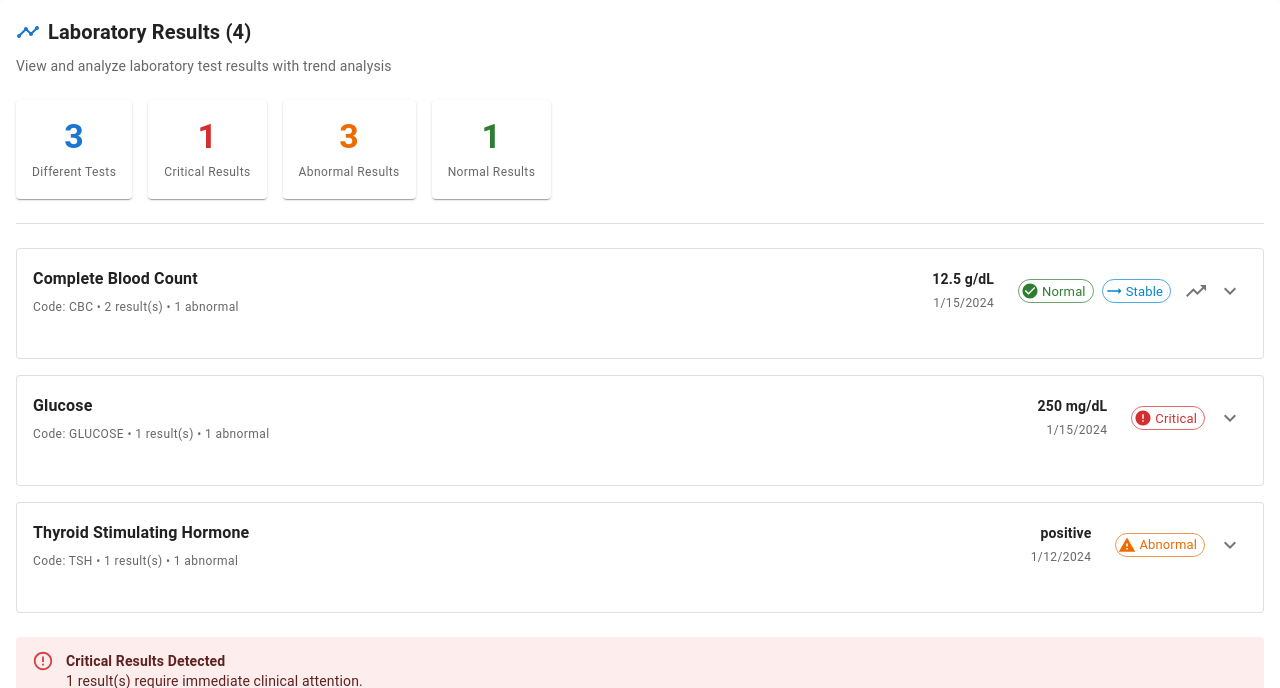
Scenario: LabResultViewer › Trend Analysis › shows insufficient data message when not enough trend data
Click the button named "show details" next to "Stable": (1230, 291) [1213,274,1247,308]
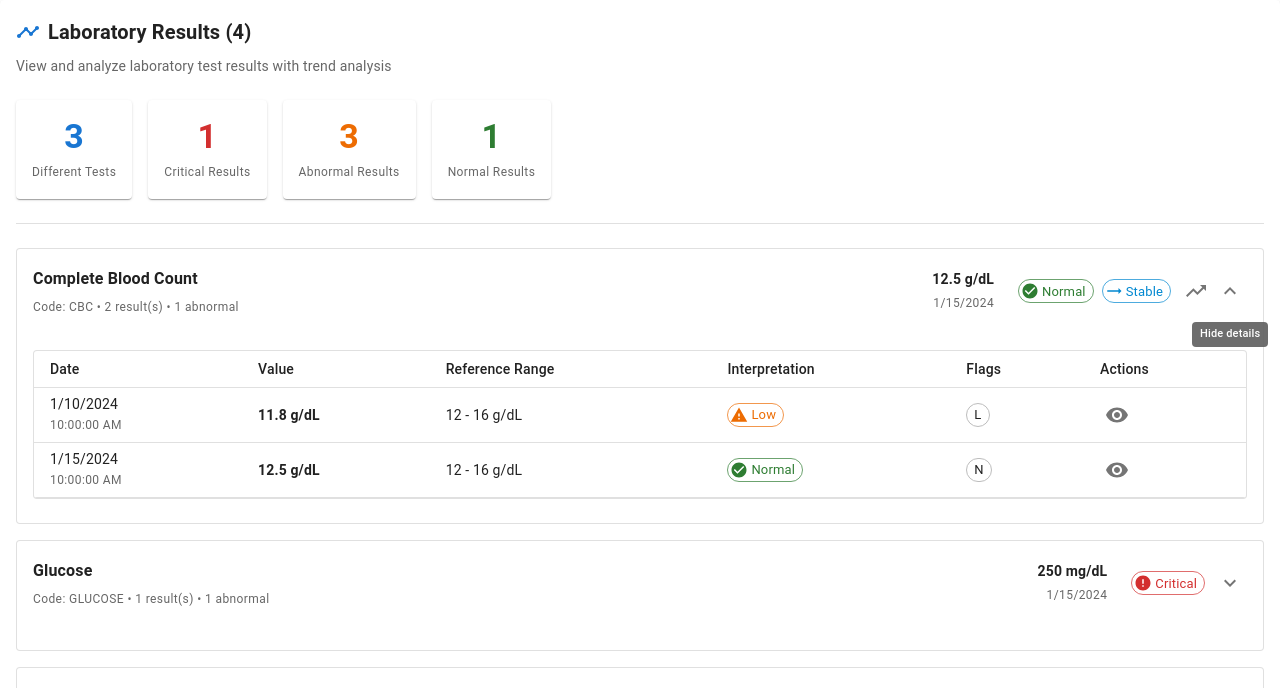
Click the button named "show trend analysis": (1196, 291) [1179,274,1213,308]
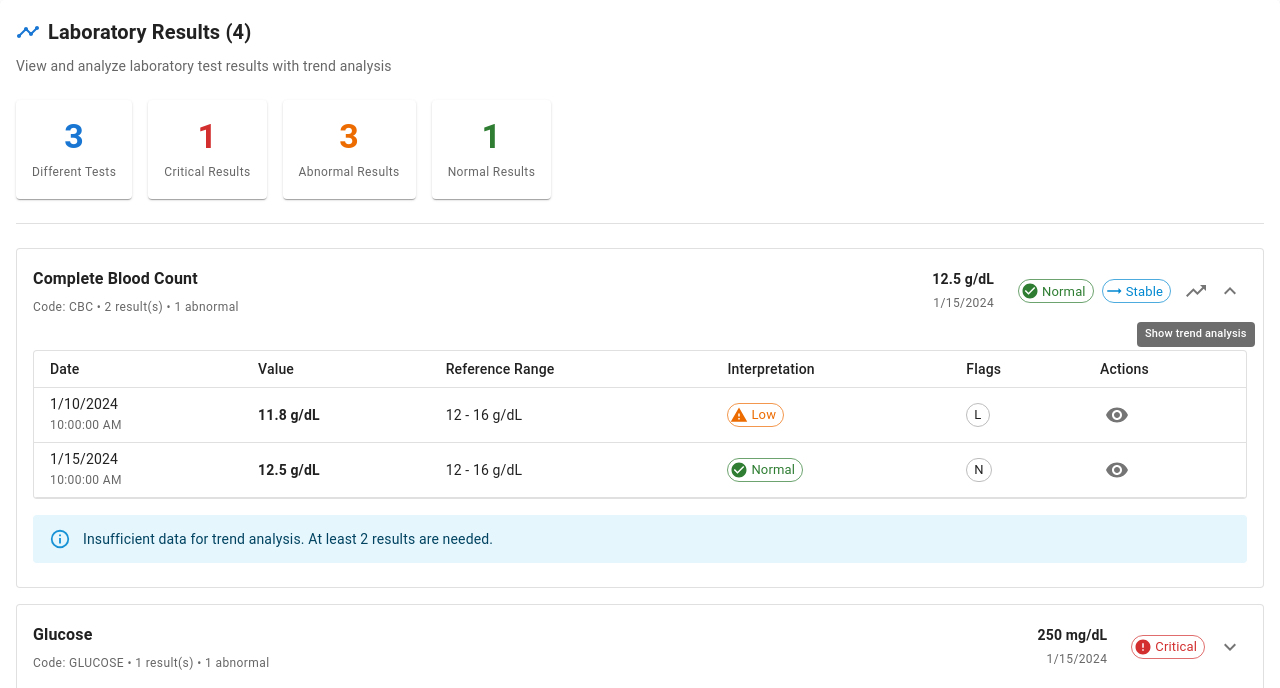
Expected: the text "Insufficient data for trend analysis. At least 2 results are needed." is shown, [83,531,493,547]
